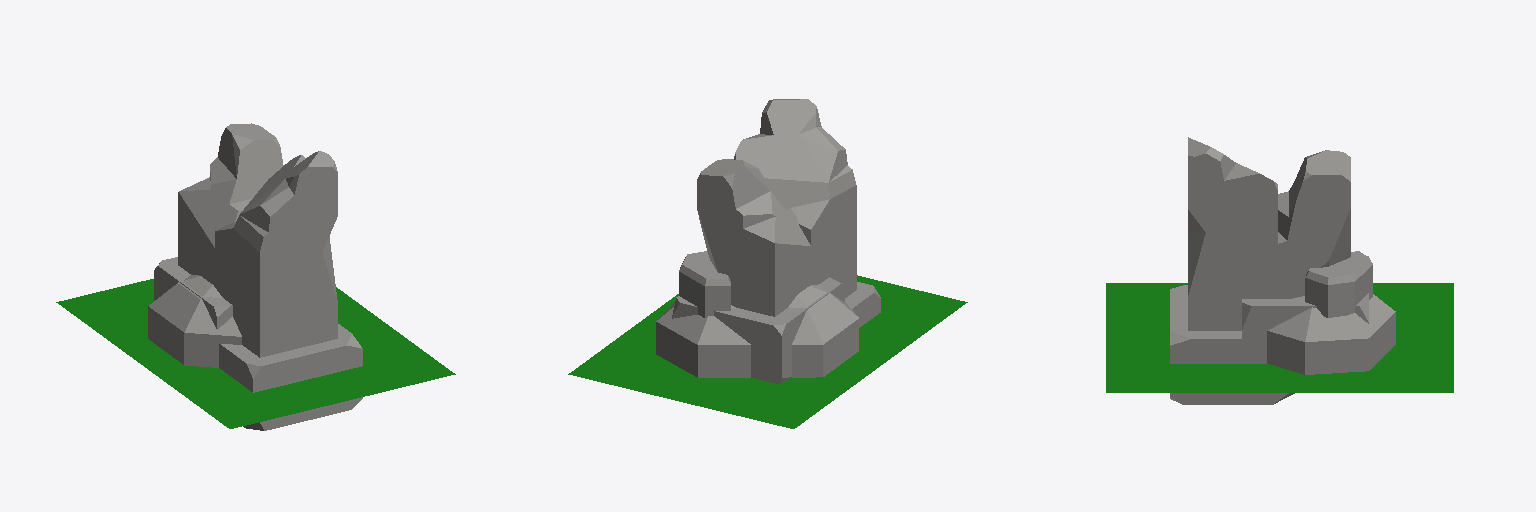
File: mountain.obj
3 views of the same model, side by side, from view 1: azimuth 30°, elevation 25°; view 2: azimuth 150°, elevation 25°; view 3: azimuth 270°, elevation 25° (orthographic).
Visible parts, largest first — view 1: mergedBlocks; view 2: mergedBlocks; view 3: mergedBlocks.
Boxes of the visible parts, x1=… form: mergedBlocks: x1=56, y1=123, x2=455, y2=430; mergedBlocks: x1=568, y1=99, x2=967, y2=428; mergedBlocks: x1=1106, y1=137, x2=1453, y2=404.
Size of the model in its own units: 1.44 by 1.5 by 1.92.